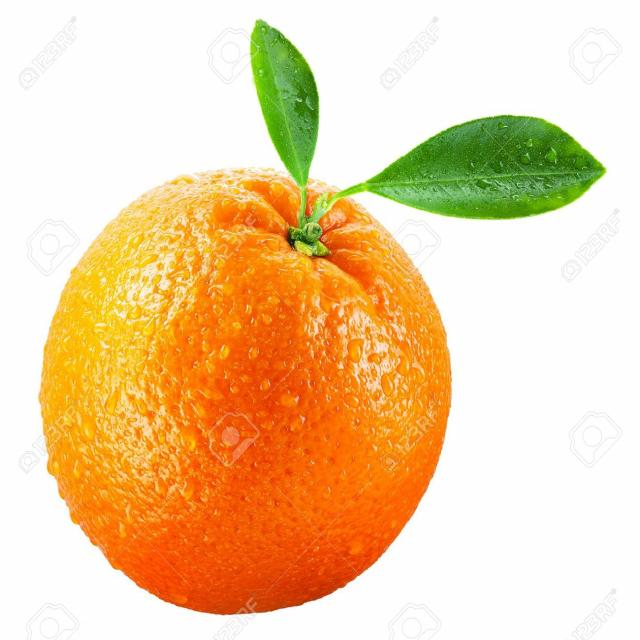orange: (43, 158, 457, 616)
